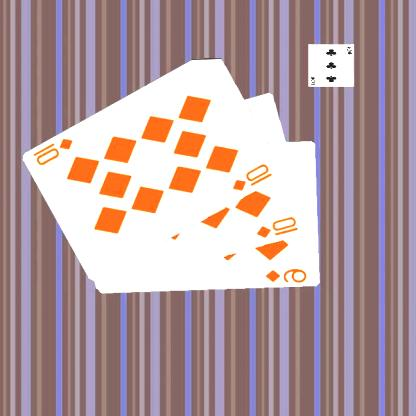10D: (32, 135, 77, 167), (232, 160, 276, 192), (256, 214, 302, 239)
9D: (264, 266, 310, 284)
